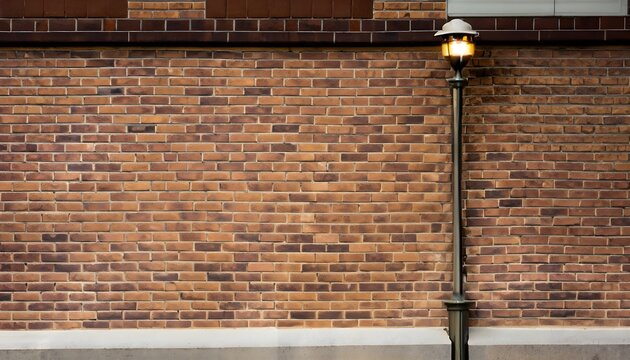Lamp: (433, 15, 481, 360)
Wall: (11, 49, 440, 320), (487, 49, 627, 323)
